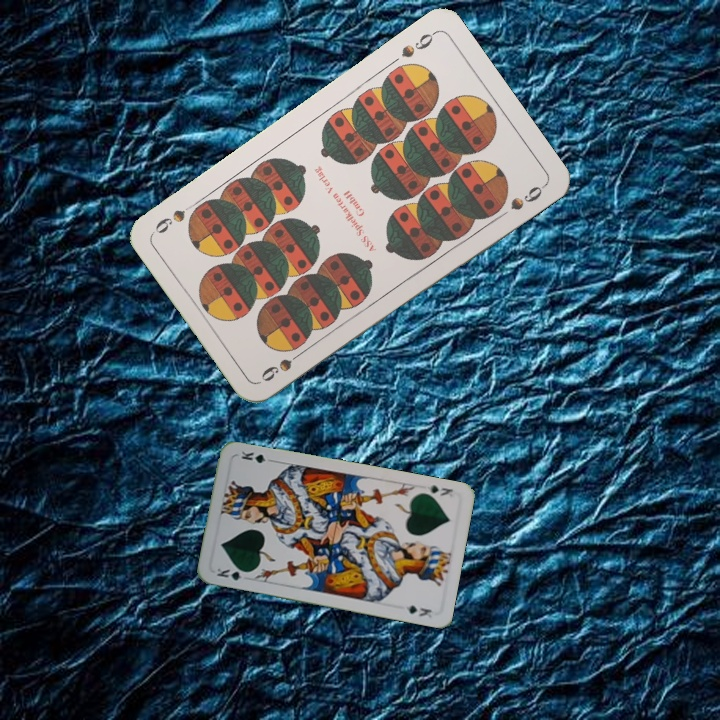GK: (213, 564, 252, 583), (423, 481, 456, 500)
S9: (256, 345, 309, 385), (397, 27, 439, 61)
